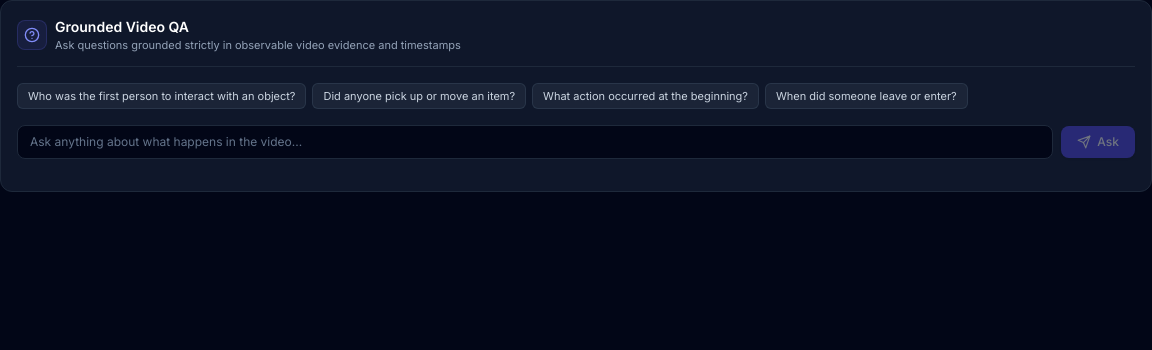
Scenario: Task 5: Video Understanding, QA, Review and Export Test Suite › 5. Task 5.1 Verification: Terminology and Video Expiration › displays uncertain/unsupported badge and model-generated indicator
Type "Who juggled apples?" into the field with test id "grounded-qa-input" at (535, 142), box x1=17 y1=125 x2=1053 y2=159
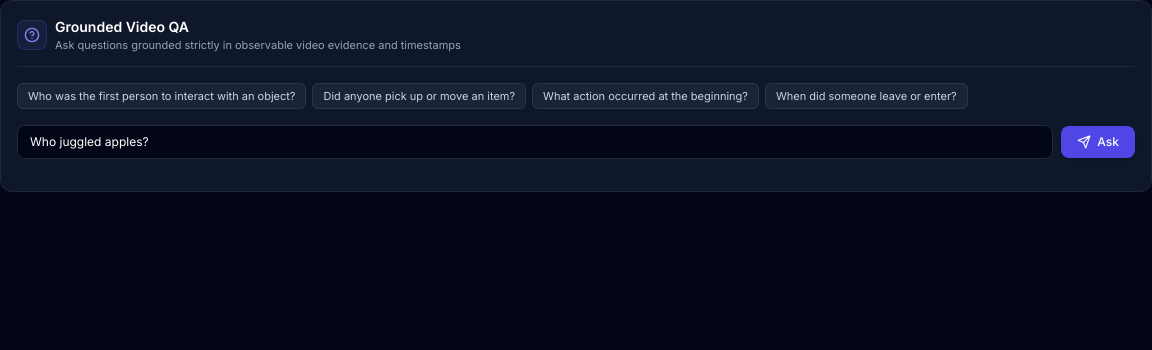
Click the button with test id "grounded-qa-ask-btn" at (1098, 142), box x1=1061 y1=126 x2=1135 y2=158
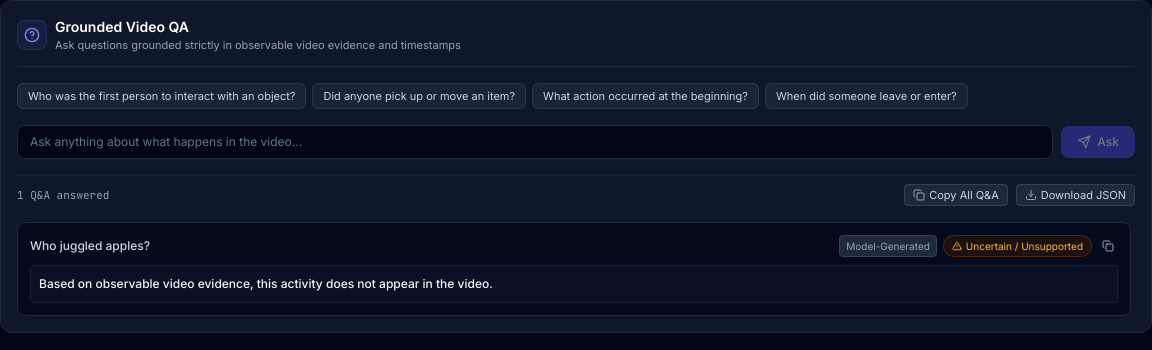
Check: the text "Uncertain / Unsupported" is shown, box x1=966 y1=238 x2=1083 y2=254
Check: the text "Model-Generated" is shown, box x1=839 y1=235 x2=937 y2=257
